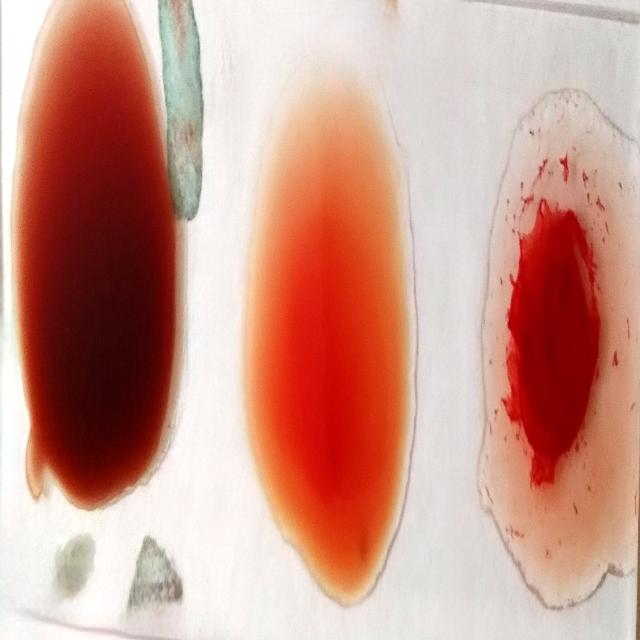D: (500, 115, 640, 630)
